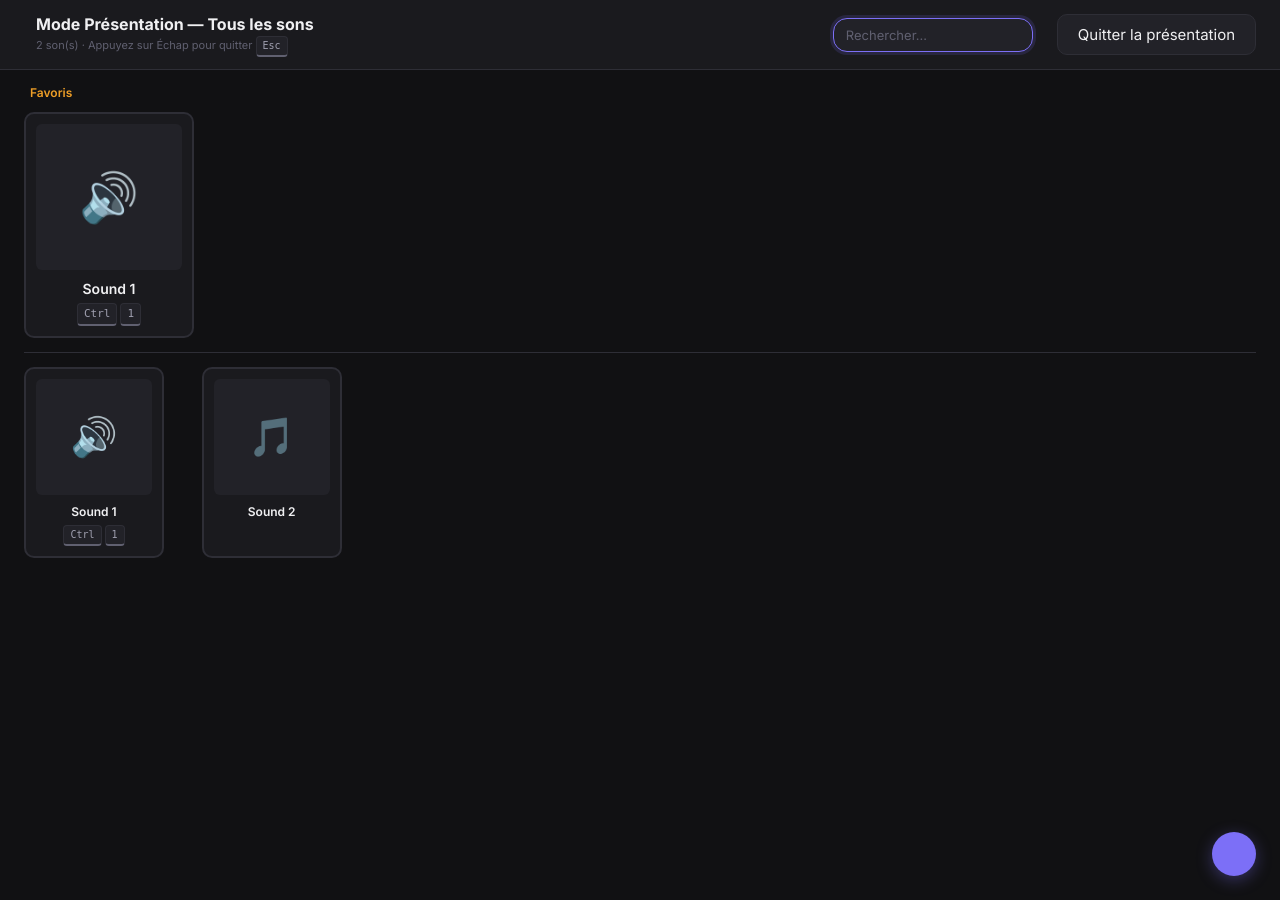
Presentation › devrait filtrer les sons avec la recherche
Type "Sound 1" into the field with test id "presentation-search".
click(933, 34); type("Sound 1")  # box [833,18,1033,52]
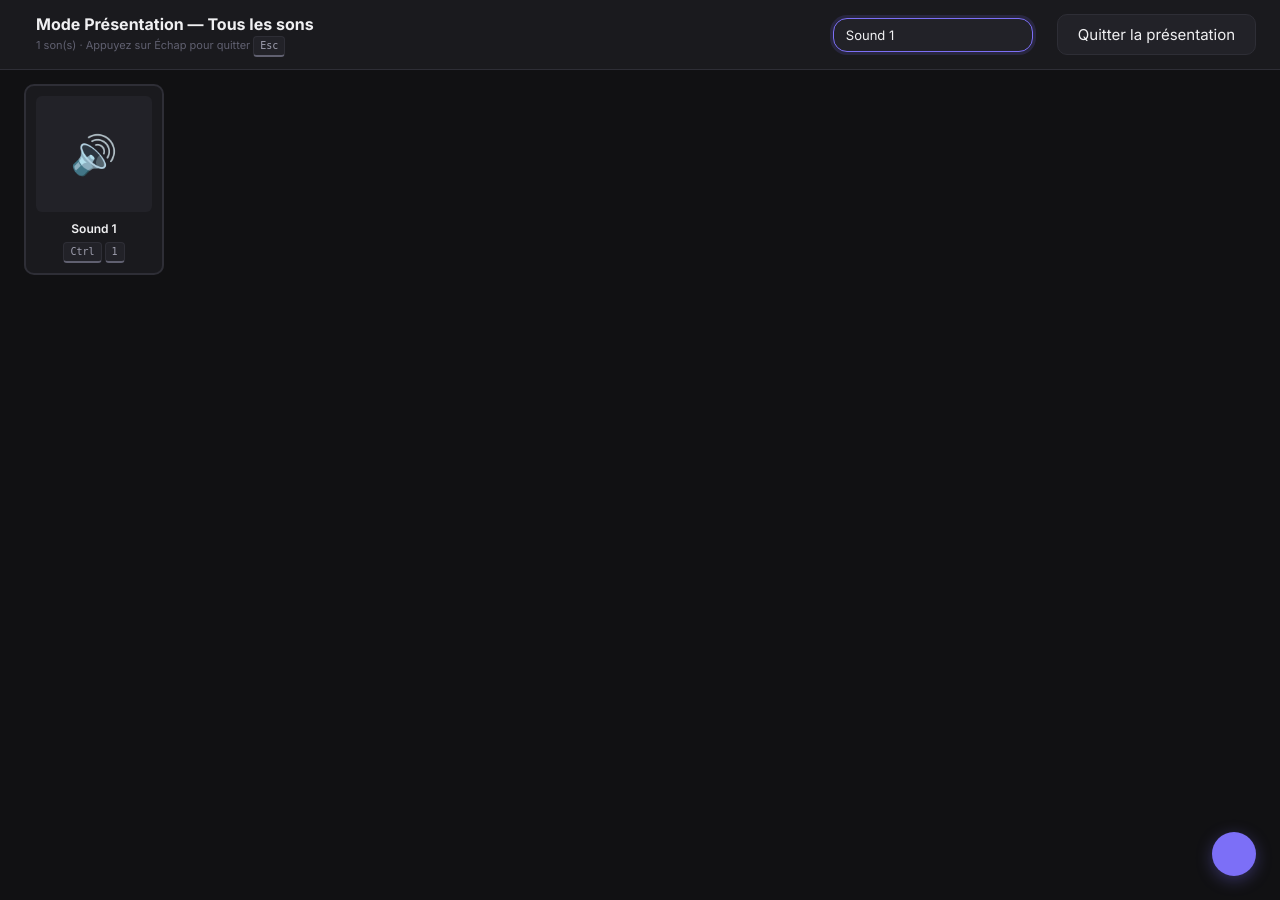
Expected: the text "Sound 1" is shown, [71,221,117,236]
Expected: the text "Sound 2" is gone
